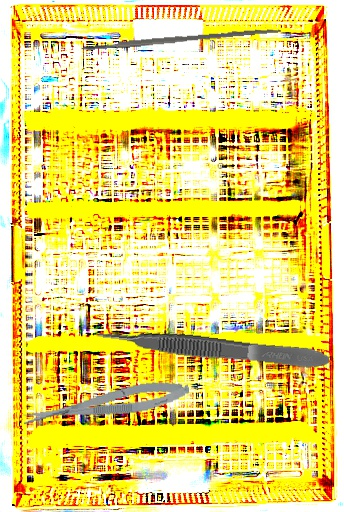Micro Scissor: (20, 376, 192, 430)
Scalpel Handle: (81, 26, 281, 52)
Tissue Forceps: (95, 320, 331, 374)
